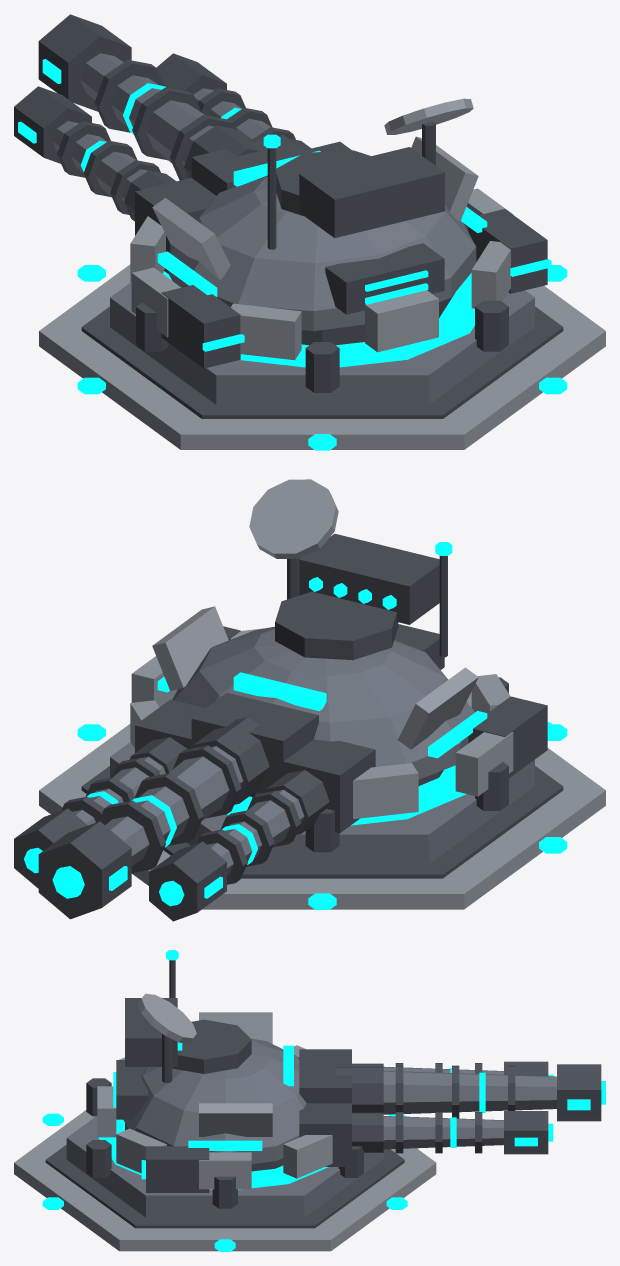
Rendered from turret_lvl6.glb.
3 views of the same model, one above another, from view 1: azimuth 30°, elevation 25°; view 2: azimuth 150°, elevation 25°; view 3: azimuth 270°, elevation 25° (orthographic). The views are drawn at different scales.
Visible parts, largest first — view 1: BaseTier_61, Dome_05, Base_01, BaseSkirt_02, MissileRack_78, SaddleBag_56, BackVent_43, MuzzleBrake_36, BarrelTube_31, Neon_BaseRing_03, SkirtPlate_76, SaddleBag_58 (+31 smaller); view 2: Dome_05, BaseTier_61, Base_01, MissileRack_78, Cupola_60, BaseSkirt_02, MuzzleBrake_36, RadarDish_69, BarrelMount_29, BarrelTube_31, BarrelMount_07, MuzzleBrake_14 (+30 smaller); view 3: BaseTier_61, Dome_05, Base_01, BarrelTube_31, BaseSkirt_02, Cupola_60, BarrelTube_20, SaddleBag_58, BarrelMount_29, ArmorPlate_47, MuzzleBrake_36, BarrelMount_18 (+23 smaller).
Boxes of the visible parts, x1,y1,x2,y2 form: BaseTier_61: (39, 264, 605, 449); Dome_05: (168, 175, 476, 330); Base_01: (110, 271, 534, 404); BaseSkirt_02: (81, 306, 563, 418); MissileRack_78: (299, 147, 444, 238); SaddleBag_56: (161, 285, 240, 368); BackVent_43: (325, 243, 444, 314); MuzzleBrake_36: (38, 14, 131, 111); BarrelTube_31: (80, 53, 213, 165); Neon_BaseRing_03: (163, 271, 474, 367); SkirtPlate_76: (365, 290, 438, 352); SaddleBag_58: (468, 209, 547, 293); Dome_05: (172, 626, 474, 779); BaseTier_61: (39, 692, 605, 909); Base_01: (110, 742, 534, 864); MissileRack_78: (299, 533, 439, 624); Cupola_60: (275, 591, 398, 660); BaseSkirt_02: (81, 766, 563, 878); MuzzleBrake_36: (38, 821, 131, 919); RadarDish_69: (249, 479, 338, 558); BarrelMount_29: (191, 693, 318, 793); BarrelTube_31: (105, 746, 243, 865); BarrelMount_07: (270, 739, 375, 832); MuzzleBrake_14: (149, 841, 226, 921); BaseTier_61: (14, 1110, 436, 1251); Dome_05: (123, 1038, 306, 1164); Base_01: (66, 1116, 383, 1217); BarrelTube_31: (383, 1071, 556, 1114); BaseSkirt_02: (45, 1144, 404, 1228); Cupola_60: (172, 1019, 251, 1073); BarrelTube_20: (383, 1116, 503, 1149); SaddleBag_58: (146, 1146, 209, 1192); BarrelMount_29: (299, 1054, 351, 1103); ArmorPlate_47: (199, 1103, 272, 1136); MuzzleBrake_36: (557, 1064, 601, 1121); BarrelMount_18: (299, 1103, 351, 1166).
Size of the model in its own units: 5.51 by 2.93 by 7.85.
